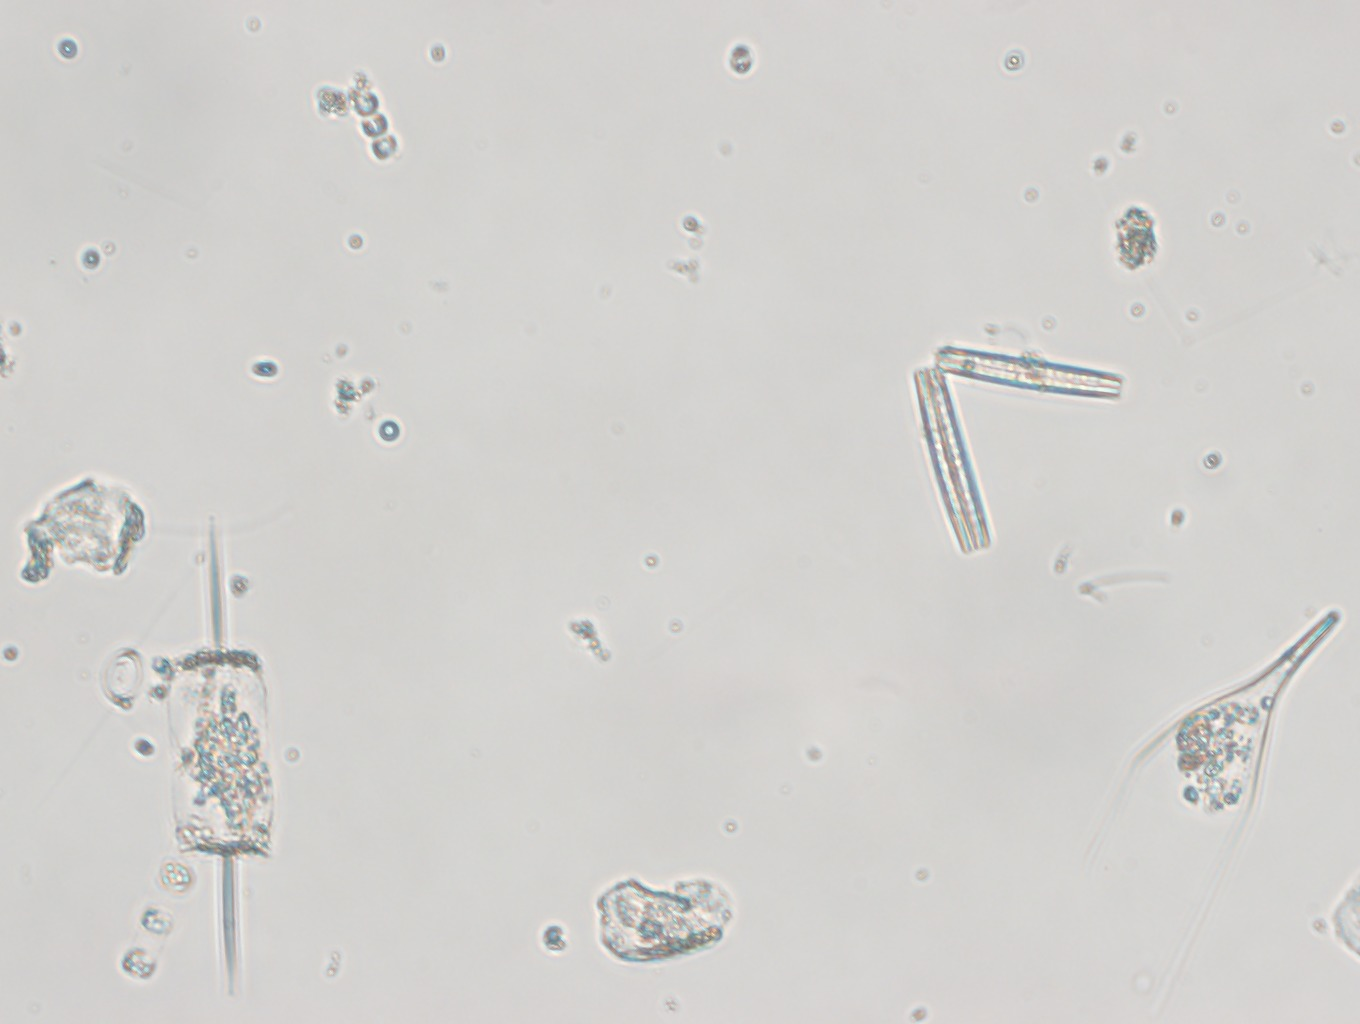ditylum: (162, 514, 276, 999)
rhizosolenia: (1125, 606, 1344, 837)
thalassionema nitzschioides: (904, 344, 1127, 552)
